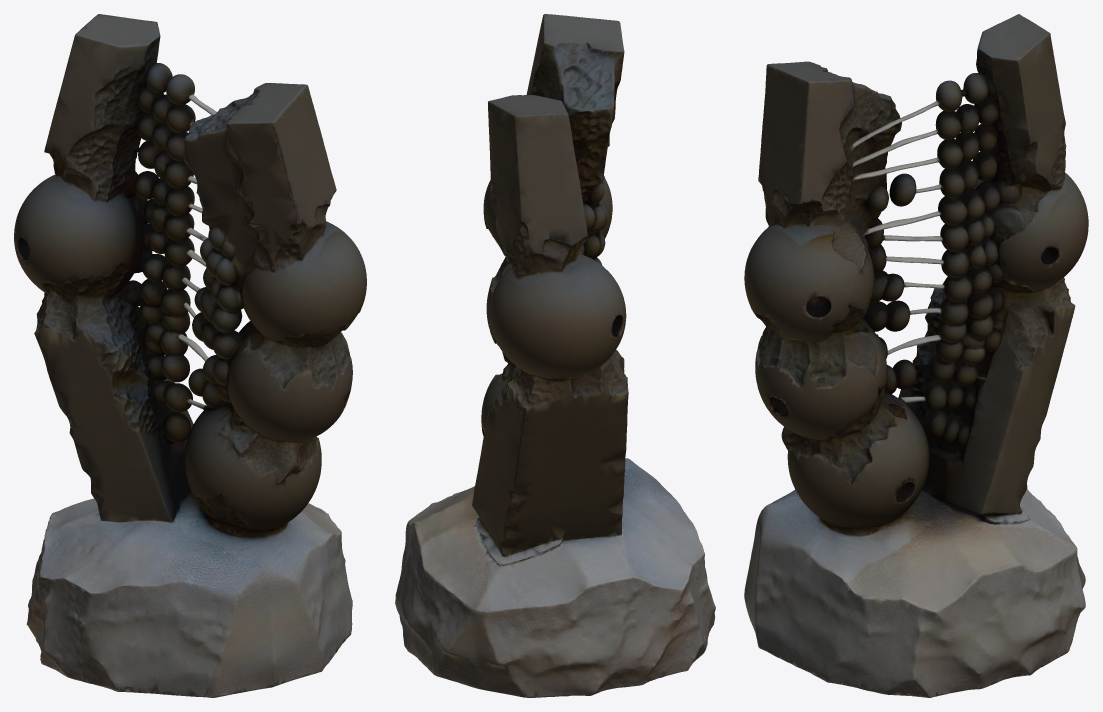
The model's file is accounting-cenotaph-high.glb.
3 views of the same model, side by side, from view 1: azimuth 30°, elevation 25°; view 2: azimuth 150°, elevation 25°; view 3: azimuth 270°, elevation 25° (orthographic). The views are drawn at different scales.
Visible parts, largest first — view 1: tripo_node_cbad385c-4ec7-41cf-9f0c-e6860750f56e; view 2: tripo_node_cbad385c-4ec7-41cf-9f0c-e6860750f56e; view 3: tripo_node_cbad385c-4ec7-41cf-9f0c-e6860750f56e.
Part boxes in pixels (left/top/right/bottom): tripo_node_cbad385c-4ec7-41cf-9f0c-e6860750f56e: left=14, top=14, right=366, bottom=697; tripo_node_cbad385c-4ec7-41cf-9f0c-e6860750f56e: left=395, top=14, right=715, bottom=697; tripo_node_cbad385c-4ec7-41cf-9f0c-e6860750f56e: left=744, top=14, right=1088, bottom=697.
Bounding box in the file's own units: 0.5354 × 0.9998 × 0.5332.
Materials: 1 (1 with a texture image).
